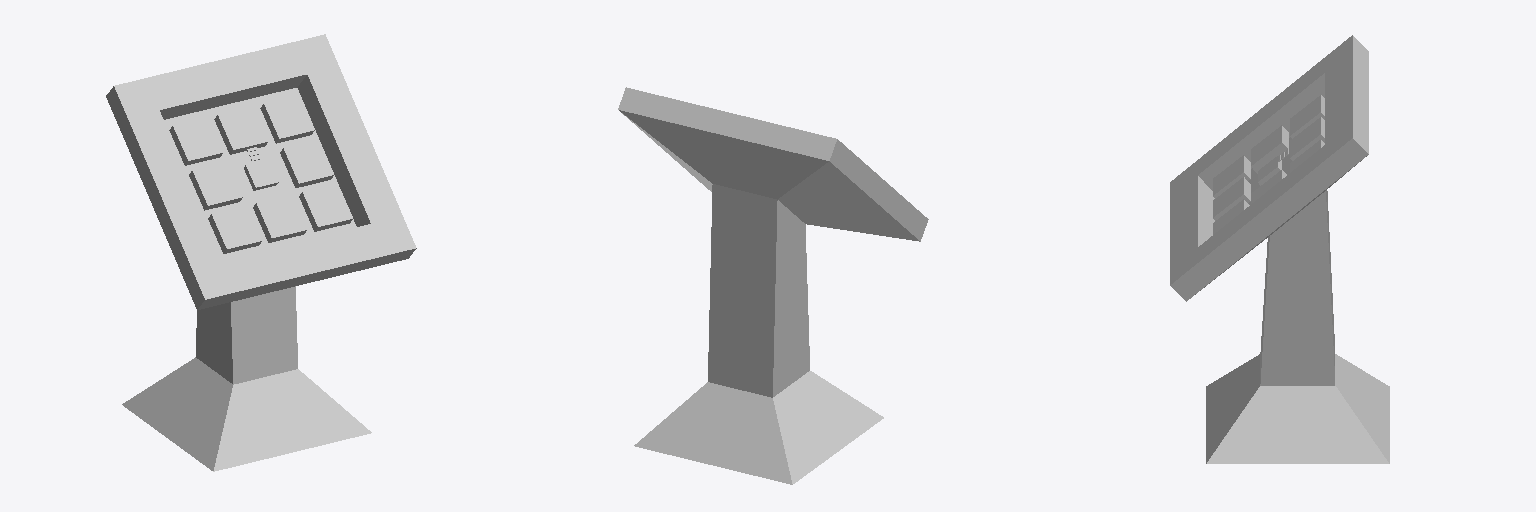
The model's file is Terminal.obj.
3 renders of one model, left to right at view 1: azimuth 30°, elevation 25°; view 2: azimuth 150°, elevation 25°; view 3: azimuth 270°, elevation 25°, orthographic.
Visible parts, largest first — view 1: Cube.001_Cube.002; view 2: Cube.001_Cube.002; view 3: Cube.001_Cube.002.
Boxes of the visible parts, x1=… form: Cube.001_Cube.002: x1=106, y1=34, x2=416, y2=471; Cube.001_Cube.002: x1=618, y1=87, x2=928, y2=484; Cube.001_Cube.002: x1=1170, y1=35, x2=1389, y2=463.
Bounding box in the file's own units: 2.66 × 4.07 × 2.39.